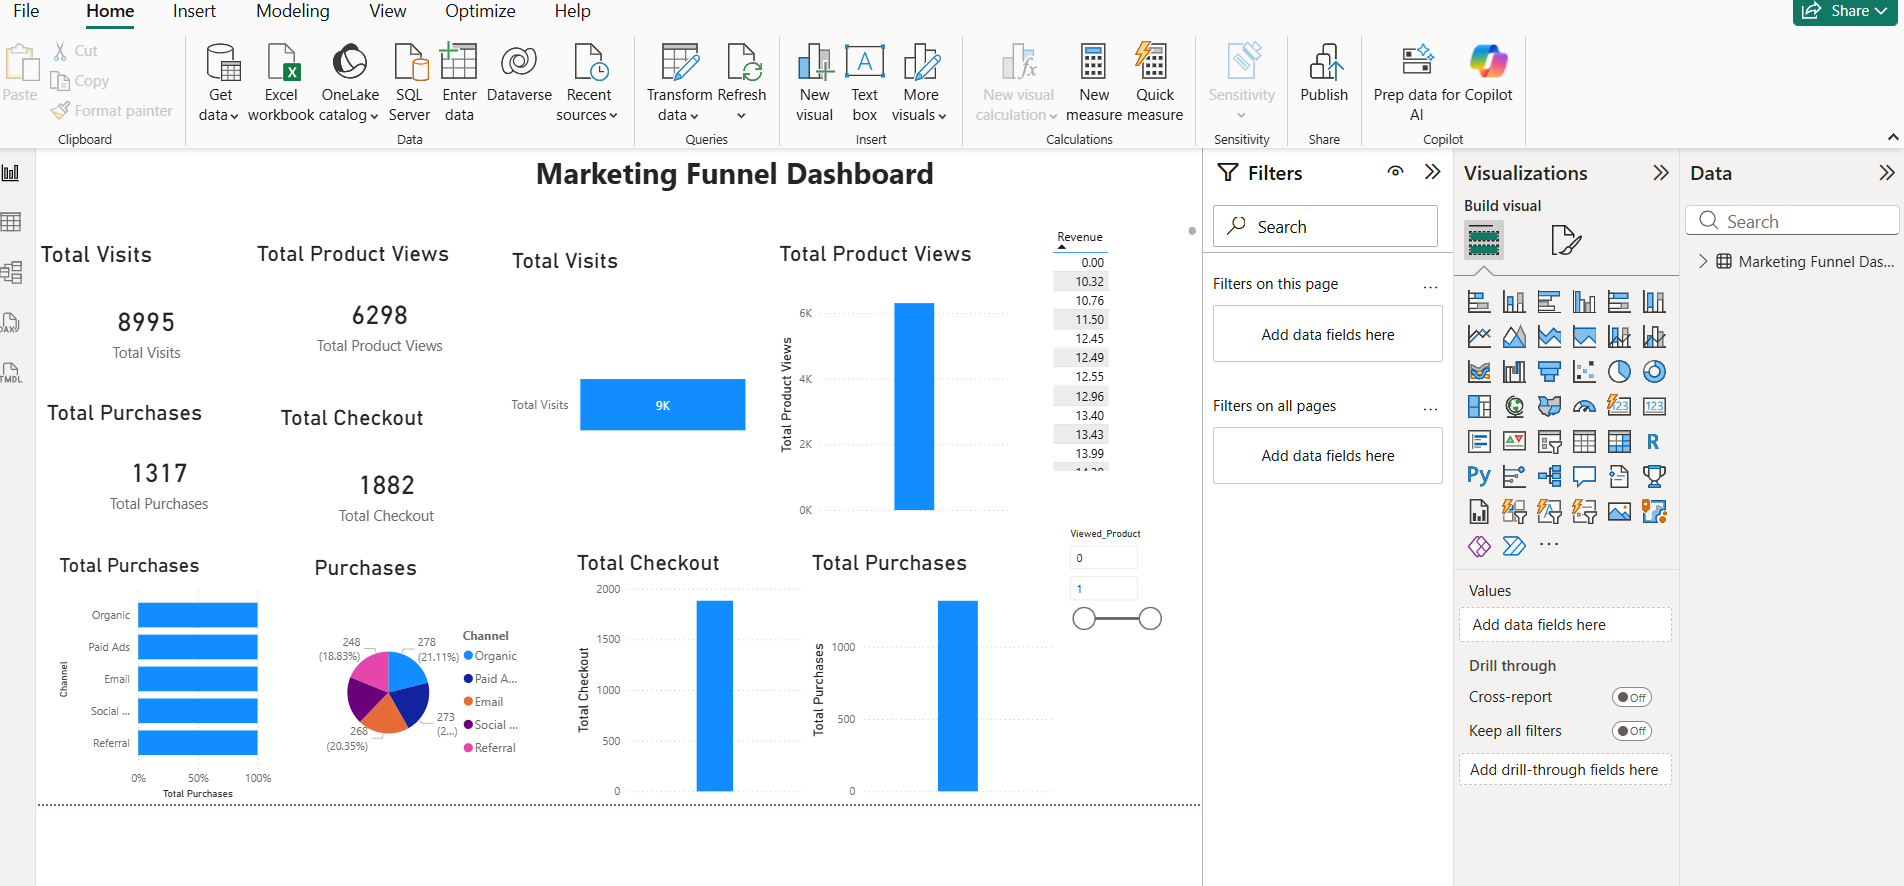

What the dashboard file says about the page in this screenshot:
{"tool":"powerbi","page":{"name":"Page 1","canvas":[1280,720],"ordinal":0},"visuals":[{"type":"funnel","fields":{"Y":["Marketing Funnel Dashboard.Total Visits"]},"box":[517.3,109.8,271.7,312.9],"z":0},{"type":"clusteredColumnChart","fields":{"Y":["Marketing Funnel Dashboard.Total Product Views"]},"box":[811,101.5,263.5,310.1],"z":1000},{"type":"clusteredColumnChart","fields":{"Y":["Marketing Funnel Dashboard.Total Checkout"]},"box":[588.7,440.5,258,279.9],"z":2000},{"type":"clusteredColumnChart","fields":{"Y":["Marketing Funnel Dashboard.Total Purchases"]},"box":[846.7,440.5,275.8,279.9],"z":3000},{"type":"card","title":"Total Visits","fields":{"Values":["Marketing Funnel Dashboard.Total Visits"]},"box":[0,101.5,242.9,164.7],"z":4000},{"type":"card","title":"Total Product Views","fields":{"Values":["Marketing Funnel Dashboard.Total Product Views"]},"box":[237.4,101.5,279.9,150.9],"z":5000},{"type":"card","title":"Total Checkout","fields":{"Values":["Marketing Funnel Dashboard.Total Checkout"]},"box":[263.5,281.3,242.9,164.7],"z":6000},{"type":"card","title":"Total Purchases","fields":{"Values":["Marketing Funnel Dashboard.Total Purchases"]},"box":[6.9,275.8,256.6,149.6],"z":7000},{"type":"hundredPercentStackedBarChart","title":"Total Purchases","fields":{"Category":["Marketing Funnel Dashboard.Channel"],"Y":["Marketing Funnel Dashboard.Total Purchases"]},"box":[20.6,446,242.9,274.4],"z":8000},{"type":"pieChart","title":"Purchases ","fields":{"Category":["Marketing Funnel Dashboard.Channel"],"Y":["Marketing Funnel Dashboard.Total Purchases"]},"box":[300.5,446,242.9,274.4],"z":9000},{"type":"textbox","box":[543.4,0,491.3,101.5],"z":10000},{"type":"tableEx","fields":{"Values":["Marketing Funnel Dashboard.Revenue"]},"box":[1110.1,81,168.8,278.6],"z":11000},{"type":"slicer","fields":{"Values":["Marketing Funnel Dashboard.Viewed_Product"]},"box":[1122.5,411.7,122.1,282.7],"z":12000}]}

Visuals, with their boxes on the page's 1280x720 design canvas (x1, y1, x2, y2). These are canvas units, not pixel positions in the 1904x886 screenshot, which may show the page scaled, cropped or inside an application window:
funnel - Marketing Funnel Dashboard.Total Visits: [x1=517, y1=110, x2=789, y2=423]
clusteredColumnChart - Marketing Funnel Dashboard.Total Product Views: [x1=811, y1=102, x2=1074, y2=412]
clusteredColumnChart - Marketing Funnel Dashboard.Total Checkout: [x1=589, y1=440, x2=847, y2=720]
clusteredColumnChart - Marketing Funnel Dashboard.Total Purchases: [x1=847, y1=440, x2=1122, y2=720]
"Total Visits" card: [x1=0, y1=102, x2=243, y2=266]
"Total Product Views" card: [x1=237, y1=102, x2=517, y2=252]
"Total Checkout" card: [x1=264, y1=281, x2=506, y2=446]
"Total Purchases" card: [x1=7, y1=276, x2=264, y2=425]
"Total Purchases" hundredPercentStackedBarChart: [x1=21, y1=446, x2=264, y2=720]
"Purchases " pieChart: [x1=300, y1=446, x2=543, y2=720]
textbox: [x1=543, y1=0, x2=1035, y2=102]
tableEx - Marketing Funnel Dashboard.Revenue: [x1=1110, y1=81, x2=1279, y2=360]
slicer - Marketing Funnel Dashboard.Viewed_Product: [x1=1122, y1=412, x2=1245, y2=694]
